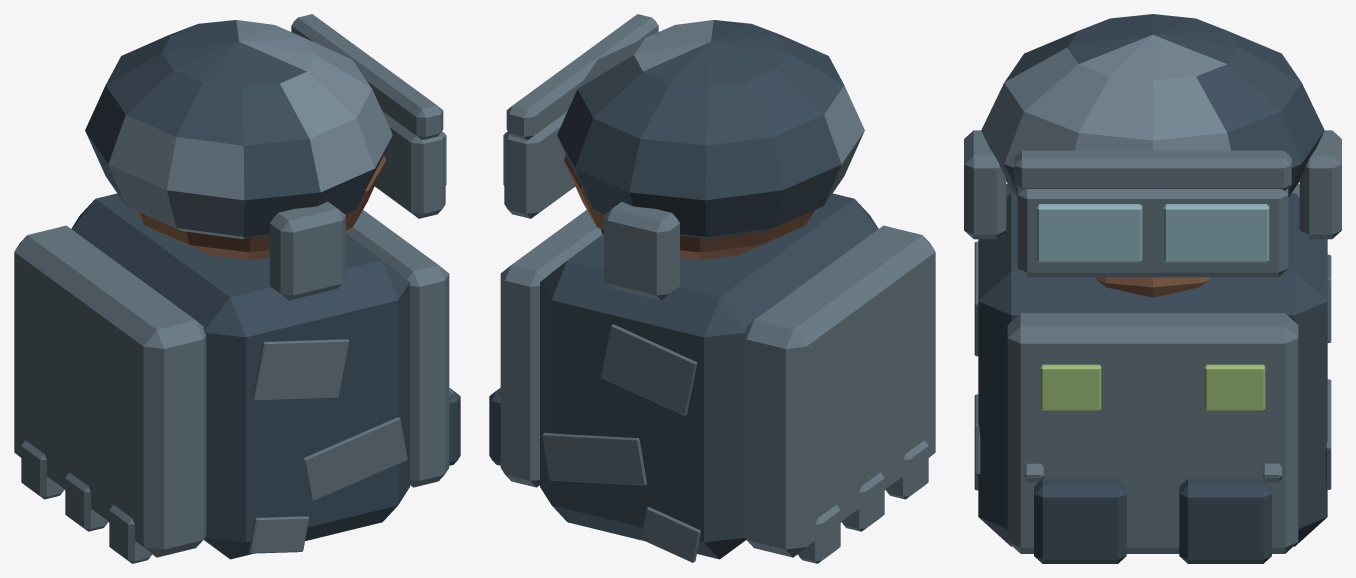
File: woodland-scout.carbon-camo.glb
3 renders of one model, left to right at view 1: azimuth 30°, elevation 25°; view 2: azimuth 150°, elevation 25°; view 3: azimuth 270°, elevation 25°, orthographic. The views are drawn at different scales.
Parts seen in each view (by area): view 1: woodland-scout_carbon-camo__main__torso_finish_657682_0.03, woodland-scout_carbon-camo__main__torso_finish_3c4d5b_0.03, woodland-scout_carbon-camo__main__head_finish_3c4d5b_0.03|fi, woodland-scout_carbon-camo__main__head_finish_657682_0.03, woodland-scout_carbon-camo__main__torso_finish_60717e_0.03, woodland-scout_carbon-camo__main__head_finish_805b47_0.03; view 2: woodland-scout_carbon-camo__main__torso_finish_657682_0.03, woodland-scout_carbon-camo__main__torso_finish_3c4d5b_0.03, woodland-scout_carbon-camo__main__head_finish_3c4d5b_0.03|fi, woodland-scout_carbon-camo__main__head_finish_657682_0.03, woodland-scout_carbon-camo__main__torso_finish_60717e_0.03, woodland-scout_carbon-camo__main__head_finish_805b47_0.03; view 3: woodland-scout_carbon-camo__main__torso_finish_657682_0.03, woodland-scout_carbon-camo__main__torso_finish_3c4d5b_0.03, woodland-scout_carbon-camo__main__head_finish_3c4d5b_0.03|fi, woodland-scout_carbon-camo__main__head_finish_657682_0.03, woodland-scout_carbon-camo__main__head_finish_91b6c0_0.03, woodland-scout_carbon-camo__main__torso_finish_a3c47c_0.03, woodland-scout_carbon-camo__main__torso_finish_60717e_0.03, woodland-scout_carbon-camo__main__head_finish_805b47_0.03.
Part boxes in pixels (bbox=[...]): woodland-scout_carbon-camo__main__torso_finish_657682_0.03: bbox=[14, 210, 453, 563]; woodland-scout_carbon-camo__main__torso_finish_3c4d5b_0.03: bbox=[71, 193, 460, 559]; woodland-scout_carbon-camo__main__head_finish_3c4d5b_0.03|fi: bbox=[85, 20, 392, 239]; woodland-scout_carbon-camo__main__head_finish_657682_0.03: bbox=[270, 14, 445, 300]; woodland-scout_carbon-camo__main__torso_finish_60717e_0.03: bbox=[248, 339, 407, 553]; woodland-scout_carbon-camo__main__head_finish_805b47_0.03: bbox=[135, 155, 385, 259]; woodland-scout_carbon-camo__main__torso_finish_657682_0.03: bbox=[496, 210, 935, 563]; woodland-scout_carbon-camo__main__torso_finish_3c4d5b_0.03: bbox=[489, 193, 878, 559]; woodland-scout_carbon-camo__main__head_finish_3c4d5b_0.03|fi: bbox=[557, 20, 864, 239]; woodland-scout_carbon-camo__main__head_finish_657682_0.03: bbox=[504, 14, 679, 300]; woodland-scout_carbon-camo__main__torso_finish_60717e_0.03: bbox=[542, 324, 700, 562]; woodland-scout_carbon-camo__main__head_finish_805b47_0.03: bbox=[564, 155, 814, 259]; woodland-scout_carbon-camo__main__torso_finish_657682_0.03: bbox=[1006, 183, 1299, 553]; woodland-scout_carbon-camo__main__torso_finish_3c4d5b_0.03: bbox=[978, 193, 1327, 563]; woodland-scout_carbon-camo__main__head_finish_3c4d5b_0.03|fi: bbox=[981, 14, 1324, 197]; woodland-scout_carbon-camo__main__head_finish_657682_0.03: bbox=[964, 130, 1341, 277]; woodland-scout_carbon-camo__main__head_finish_91b6c0_0.03: bbox=[1036, 204, 1269, 262]; woodland-scout_carbon-camo__main__torso_finish_a3c47c_0.03: bbox=[1040, 364, 1265, 410]; woodland-scout_carbon-camo__main__torso_finish_60717e_0.03: bbox=[974, 241, 1331, 490]; woodland-scout_carbon-camo__main__head_finish_805b47_0.03: bbox=[1095, 277, 1210, 297].
Size of the model in its own units: 30.65 by 39.5 by 28.6.
